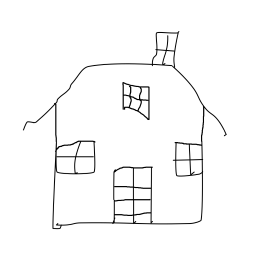chimney: (146, 25, 185, 71)
closed_window: (107, 74, 158, 126), (54, 134, 99, 179), (171, 136, 207, 183)
door: (109, 157, 159, 223)
single_line_roof: (15, 57, 238, 137)
wall: (47, 108, 212, 233)
